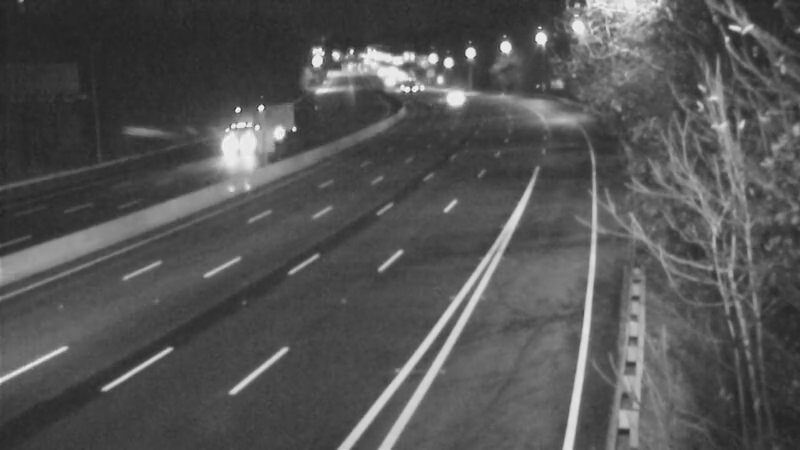vehicle: (388, 57, 438, 107), (423, 72, 473, 122), (230, 114, 280, 164)
